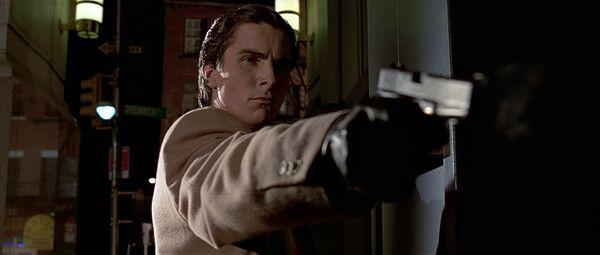Gun: (377, 64, 487, 125)
